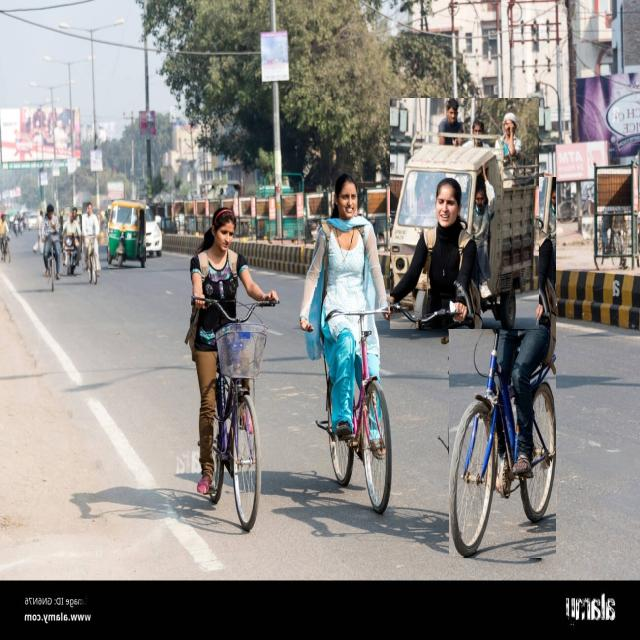autorickshaw: (108, 201, 146, 268)
bicycle: (449, 178, 556, 558), (300, 173, 392, 512), (188, 207, 278, 531), (81, 204, 100, 283)
motorcycle: (63, 207, 81, 275)
truck: (390, 99, 539, 329)
